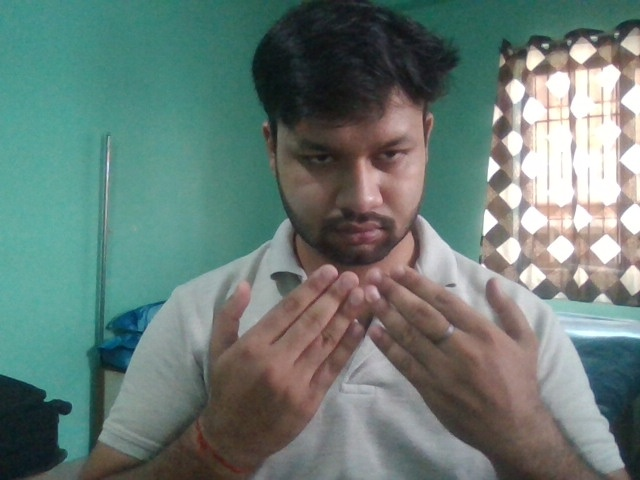Thank You: (202, 260, 542, 471)
